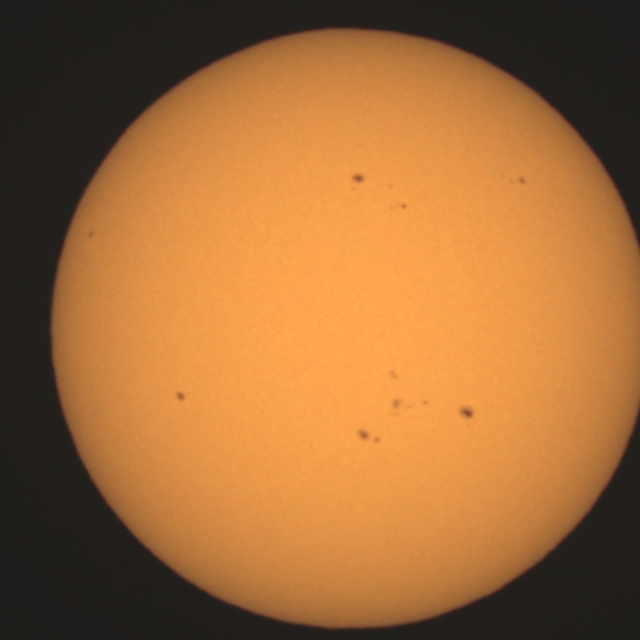sunspot: (390, 396, 429, 416), (355, 427, 382, 446), (349, 171, 367, 192), (457, 404, 476, 423), (506, 174, 528, 188), (386, 368, 400, 382), (174, 390, 187, 404), (394, 201, 409, 212), (385, 181, 395, 192), (86, 230, 95, 240)
